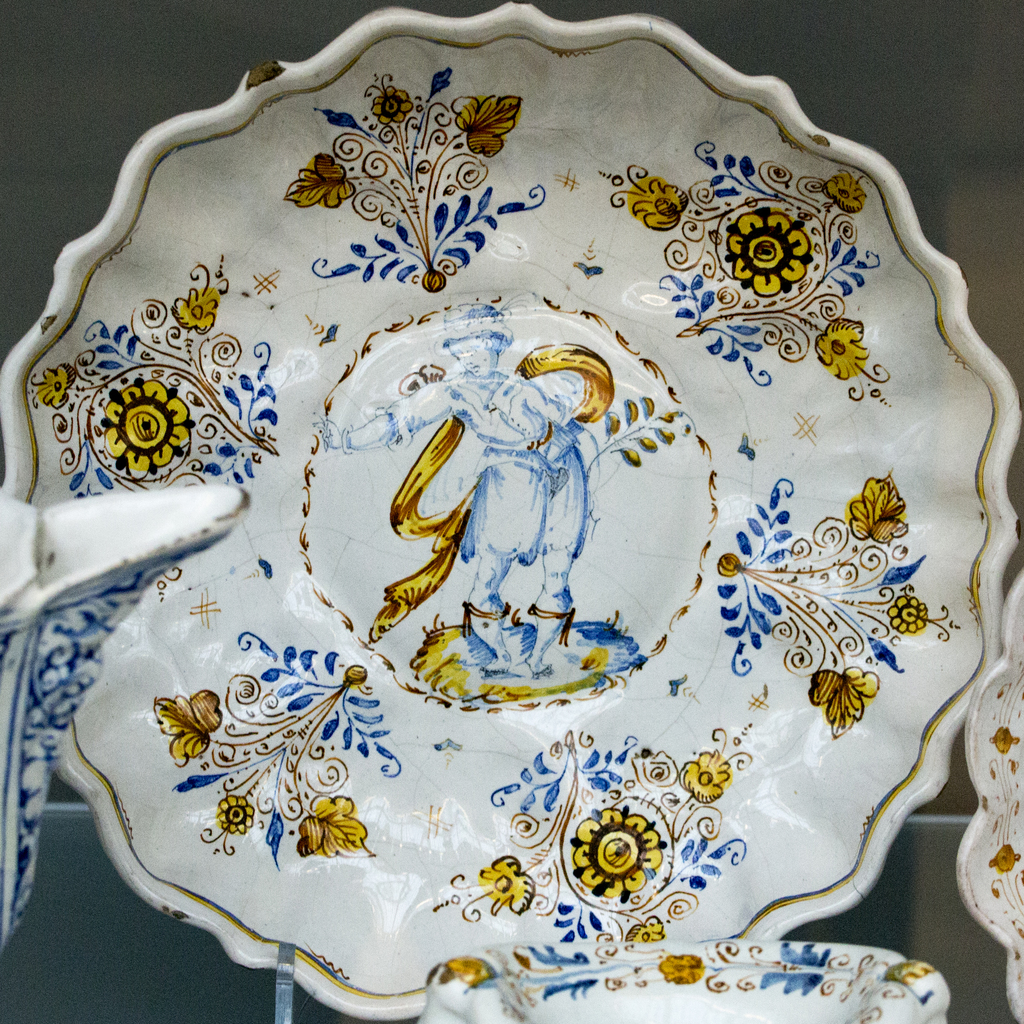plate: (0, 0, 1023, 1023), (1, 0, 1023, 1022)
